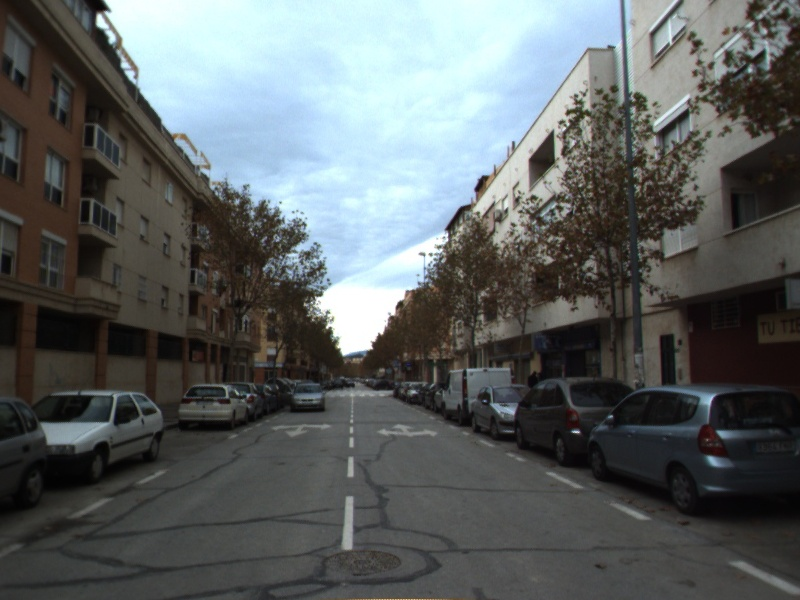STRAIGHT_LEFT_RIGHT: (375, 421, 440, 439)
